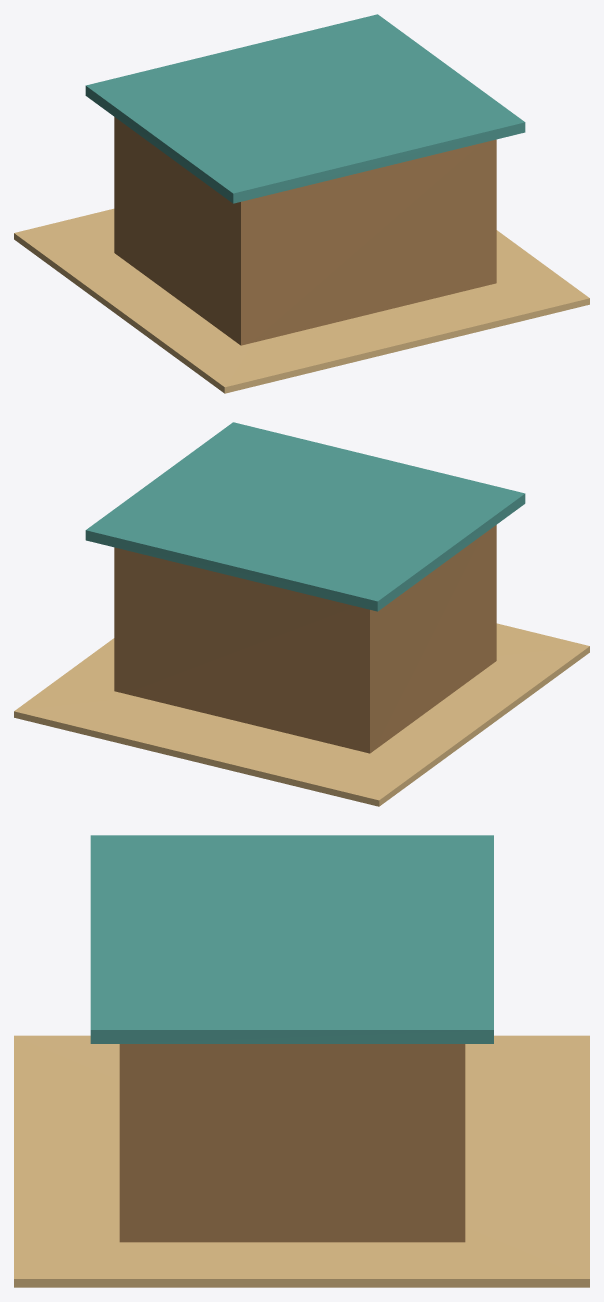
The model's file is coastal-warehouse.source.glb.
3 renders of one model, top to bottom at view 1: azimuth 30°, elevation 25°; view 2: azimuth 150°, elevation 25°; view 3: azimuth 270°, elevation 25°, orthographic. The views are drawn at different scales.
Visible parts, largest first — view 1: coastal-warehouse-body-mesh, coastal-warehouse-roof-mesh, coastal-warehouse-base-mesh; view 2: coastal-warehouse-body-mesh, coastal-warehouse-roof-mesh, coastal-warehouse-base-mesh; view 3: coastal-warehouse-roof-mesh, coastal-warehouse-base-mesh, coastal-warehouse-body-mesh.
Boxes of the visible parts, x1,y1,x2,y2 form: coastal-warehouse-body-mesh: [114, 117, 496, 345]; coastal-warehouse-roof-mesh: [85, 14, 525, 203]; coastal-warehouse-base-mesh: [14, 208, 589, 393]; coastal-warehouse-body-mesh: [114, 525, 496, 753]; coastal-warehouse-roof-mesh: [85, 422, 525, 611]; coastal-warehouse-base-mesh: [14, 623, 589, 806]; coastal-warehouse-roof-mesh: [90, 835, 493, 1043]; coastal-warehouse-base-mesh: [14, 1035, 589, 1287]; coastal-warehouse-body-mesh: [119, 1044, 465, 1242].
Bounding box in the file's own units: 6 × 2.68 × 6.
